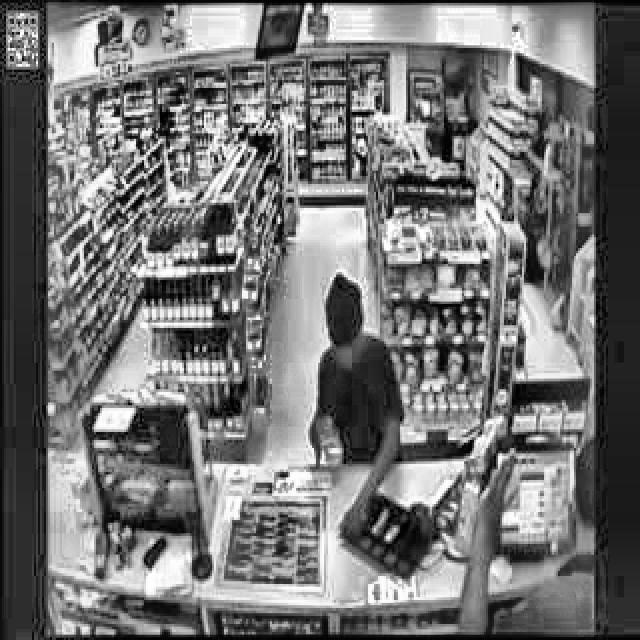robbery: (306, 272, 408, 544), (457, 438, 592, 633)
